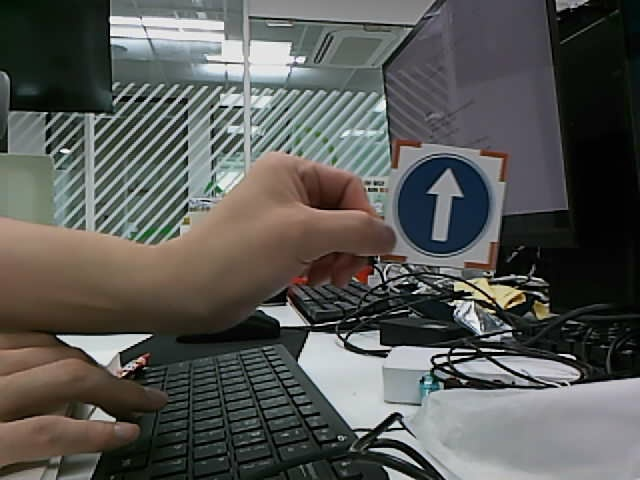go: (394, 155, 494, 258)
